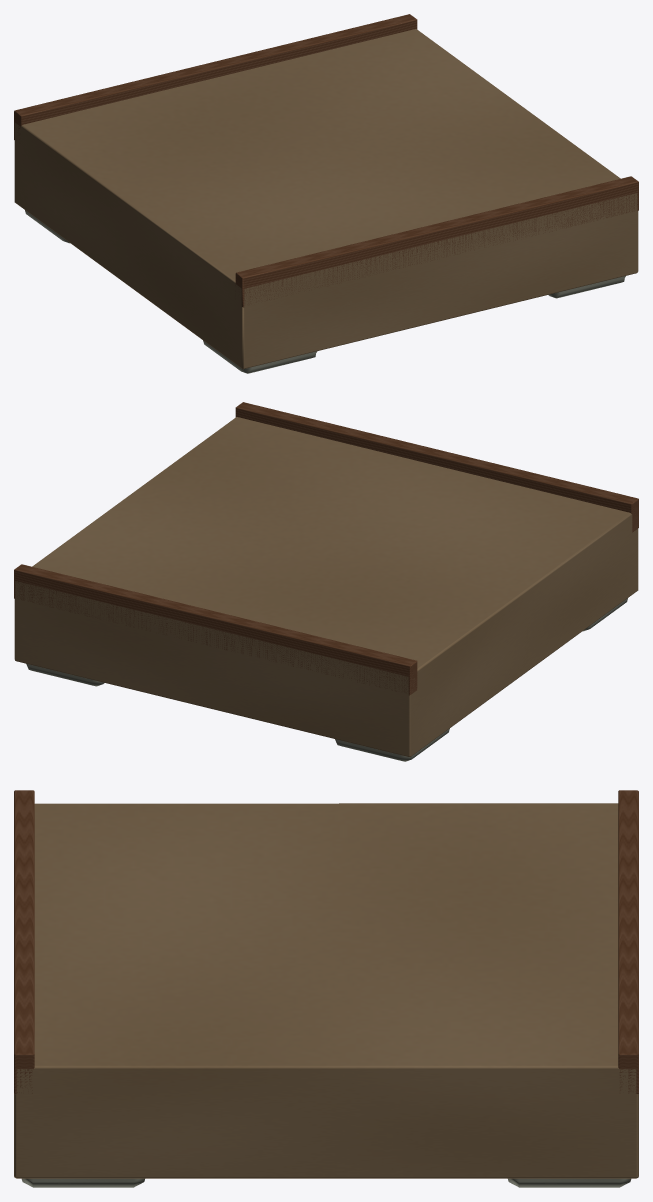
File: foundation.gltf
3 renders of one model, top to bottom at view 1: azimuth 30°, elevation 25°; view 2: azimuth 150°, elevation 25°; view 3: azimuth 270°, elevation 25°, orthographic. The views are drawn at different scales.
Size of the model in its own units: 1.8 by 0.45 by 1.8.
Materials: 3 (3 with a texture image).
